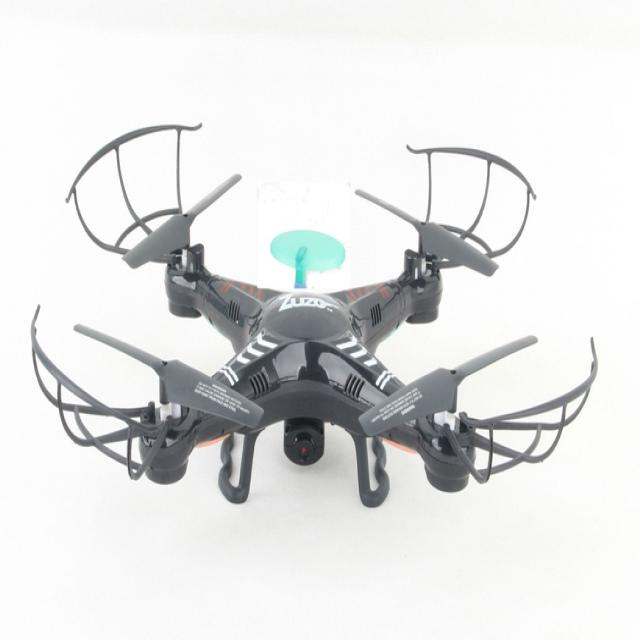drone: (25, 100, 588, 530)
